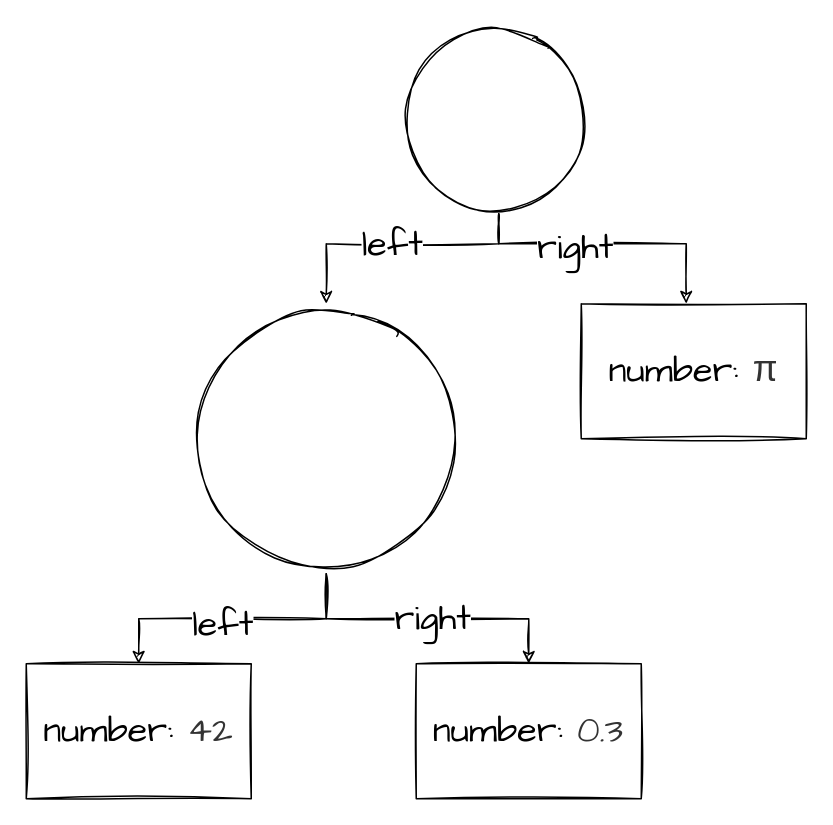
Some shapes in this 833 by 825 pixel diagram are drawn without their labels. Each missing label, with the centre of its shape:
add (+) left and right: the point at 494,119
multiply (*) left and right: the point at 325,438
